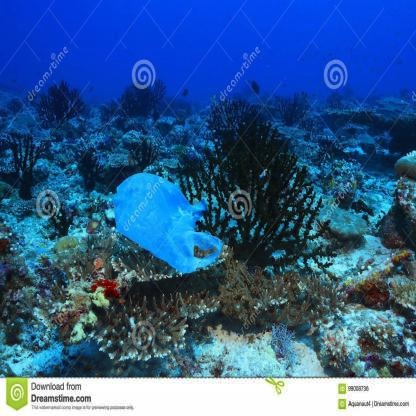pbag: (104, 166, 224, 275)
